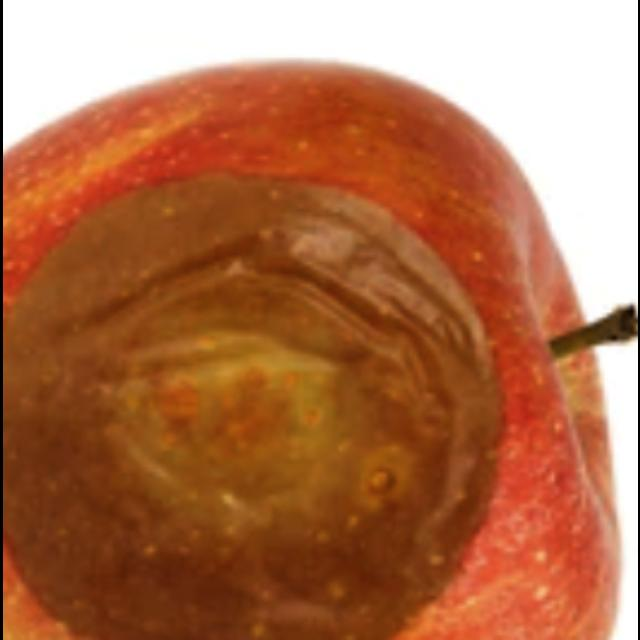Apel Tidak Segar: (2, 41, 638, 640)
